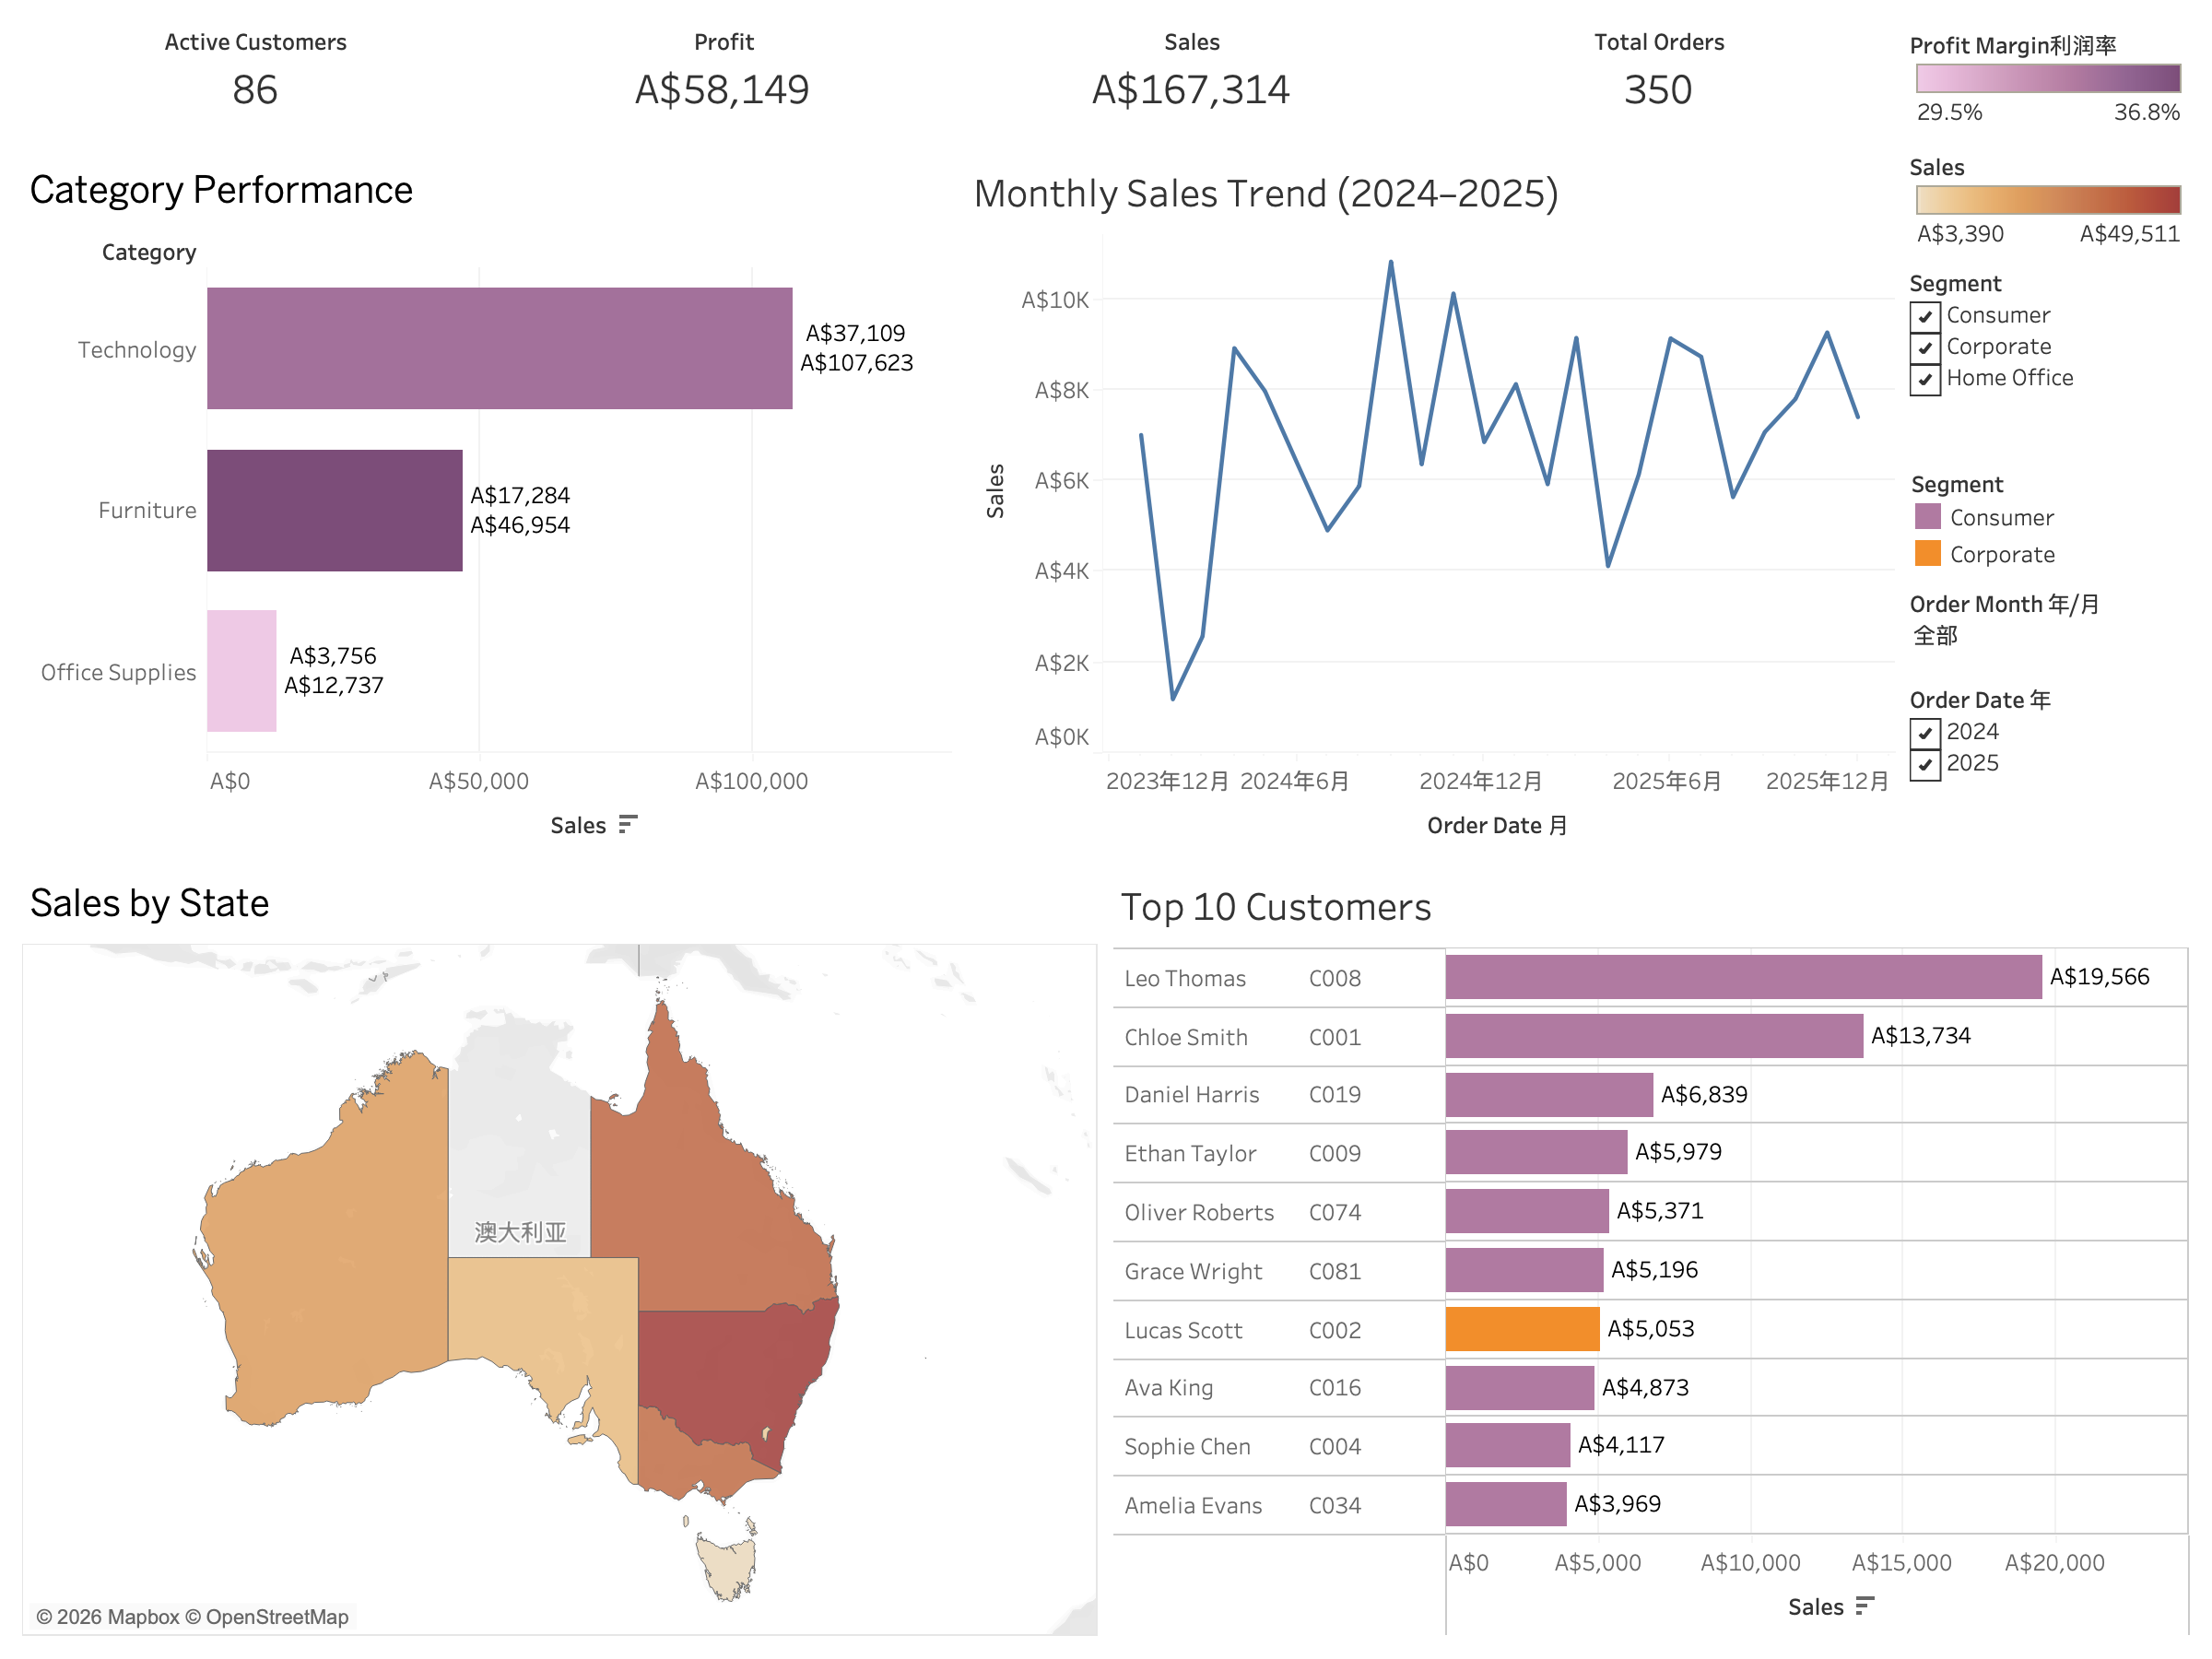

The dashboard page shown, as its layout file describes it:
{"tool":"tableau","page":{"name":"Retail Sales Performance Dashboard","canvas":[1200,900],"ordinal":0},"visuals":[{"type":"worksheet","title":"06_KPI Summary","mark":"Automatic","box":[8,8,1024,72.2]},{"type":"legend","title":"    03_Category Performance各品类销售表现","param":"[federated.11kvpu013n2kdx1fidpuq14axuwh].[usr:Calculation_0112249885675520:qk]","box":[1032,8,160,65]},{"type":"legend","title":"    05_State Sales Map","param":"[federated.11kvpu013n2kdx1fidpuq14axuwh].[sum:Sales:qk]","box":[1032,73,160,65]},{"type":"worksheet","title":"    03_Category Performance各品类销售表现","mark":"Automatic","rows":["Category"],"cols":["Sales"],"box":[8,80.2,512,386.8]},{"type":"worksheet","title":"02_Sales Trend","mark":"Automatic","rows":["Sales"],"cols":["Order Date"],"box":[520,80.2,512,386.8]},{"type":"filter","title":"Top 10 Customers","param":"[federated.11kvpu013n2kdx1fidpuq14axuwh].[none:Segment:nk]","box":[1032,138,160,108]},{"type":"legend","title":"Top 10 Customers","param":"[federated.11kvpu013n2kdx1fidpuq14axuwh].[none:Segment:nk]","box":[1032,246,160,66]},{"type":"filter","title":"02_Sales Trend","param":"[federated.11kvpu013n2kdx1fidpuq14axuwh].[my:Calculation_0112250928631811:ok]","box":[1032,312,160,52]},{"type":"filter","title":"02_Sales Trend","param":"[federated.11kvpu013n2kdx1fidpuq14axuwh].[yr:Order Date:ok]","box":[1032,364,160,89]},{"type":"worksheet","title":"    05_State Sales Map","mark":"Multipolygon","box":[8,467,592,425]},{"type":"worksheet","title":"Top 10 Customers","mark":"Automatic","rows":["Customer Name","Customer ID (Customers)"],"cols":["Sales"],"box":[600,467,592,425]}]}

Visuals, with their boxes in screenshot pixels (x1, y1, x2, y2), scaled from the page's 1200x900 canvas onto the 2212x1659 screenshot:
"06_KPI Summary" worksheet: Rect(15, 15, 1902, 147)
"    03_Category Performance各品类销售表现" legend: Rect(1902, 15, 2197, 135)
"    05_State Sales Map" legend: Rect(1902, 135, 2197, 254)
"    03_Category Performance各品类销售表现" worksheet: Rect(15, 147, 959, 861)
"02_Sales Trend" worksheet: Rect(959, 147, 1902, 861)
"Top 10 Customers" filter: Rect(1902, 254, 2197, 453)
"Top 10 Customers" legend: Rect(1902, 453, 2197, 575)
"02_Sales Trend" filter: Rect(1902, 575, 2197, 671)
"02_Sales Trend" filter: Rect(1902, 671, 2197, 835)
"    05_State Sales Map" worksheet (Multipolygon marks): Rect(15, 861, 1106, 1644)
"Top 10 Customers" worksheet: Rect(1106, 861, 2197, 1644)
